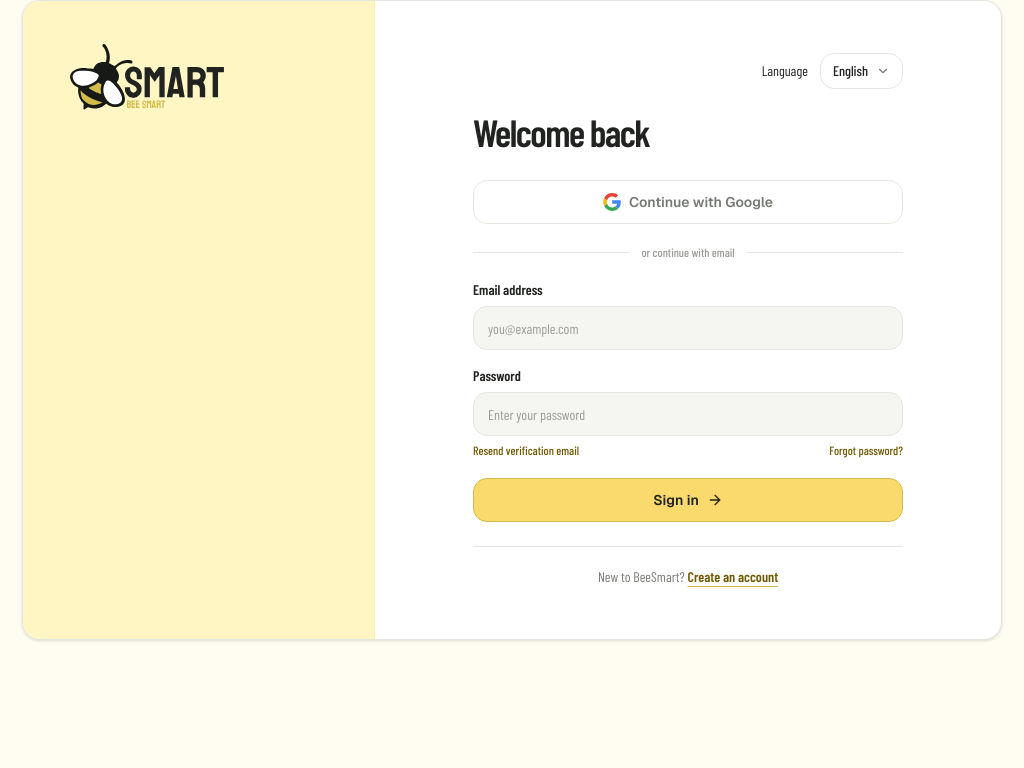
authentication pages › shows the check-email page instead of an error for an unverified account
Type "  TEACHER@EXAMPLE.COM  " into the field labelled "Email address".
click(688, 328); type("  TEACHER@EXAMPLE.COM  ")  # box 473,306 -> 903,350
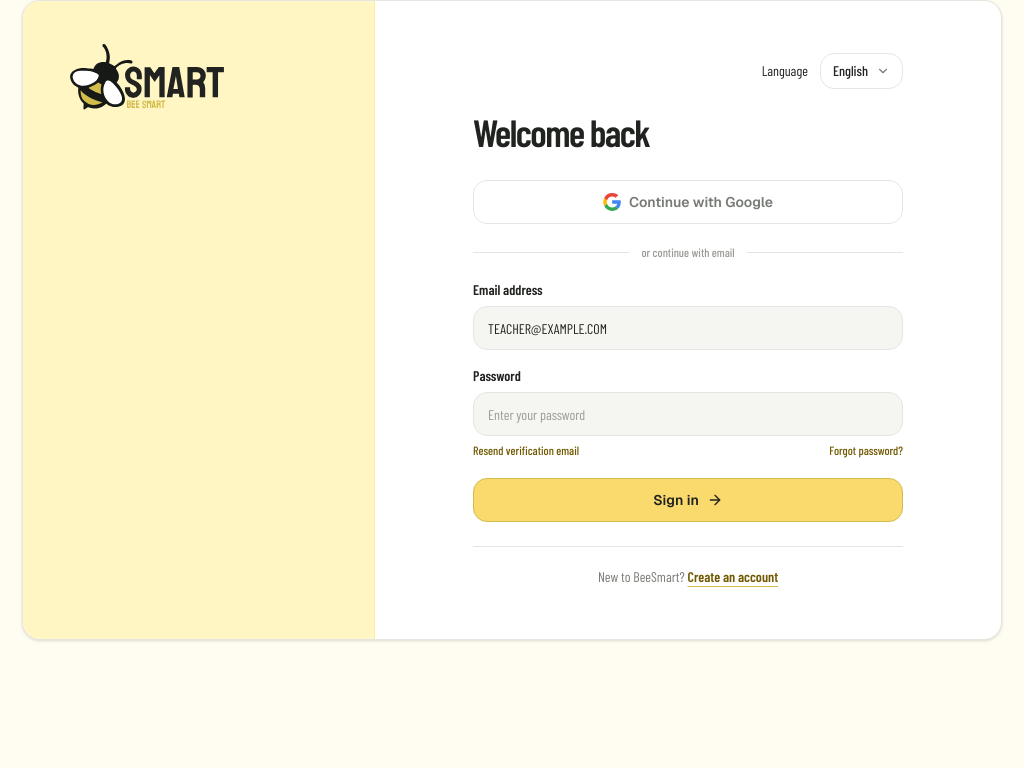
Type "long-enough-password" into the password field labelled "Password".
click(688, 414); type("long-enough-password")  # box 473,392 -> 903,436
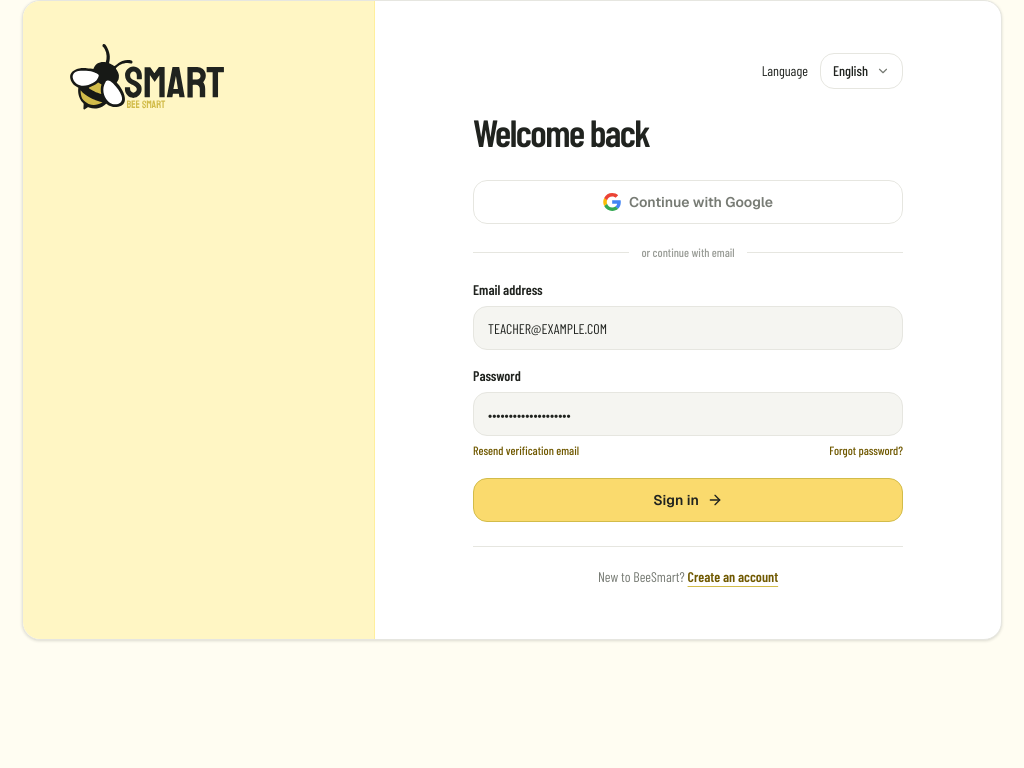
Click the button "Sign in".
click(688, 500)  # box 473,478 -> 903,522
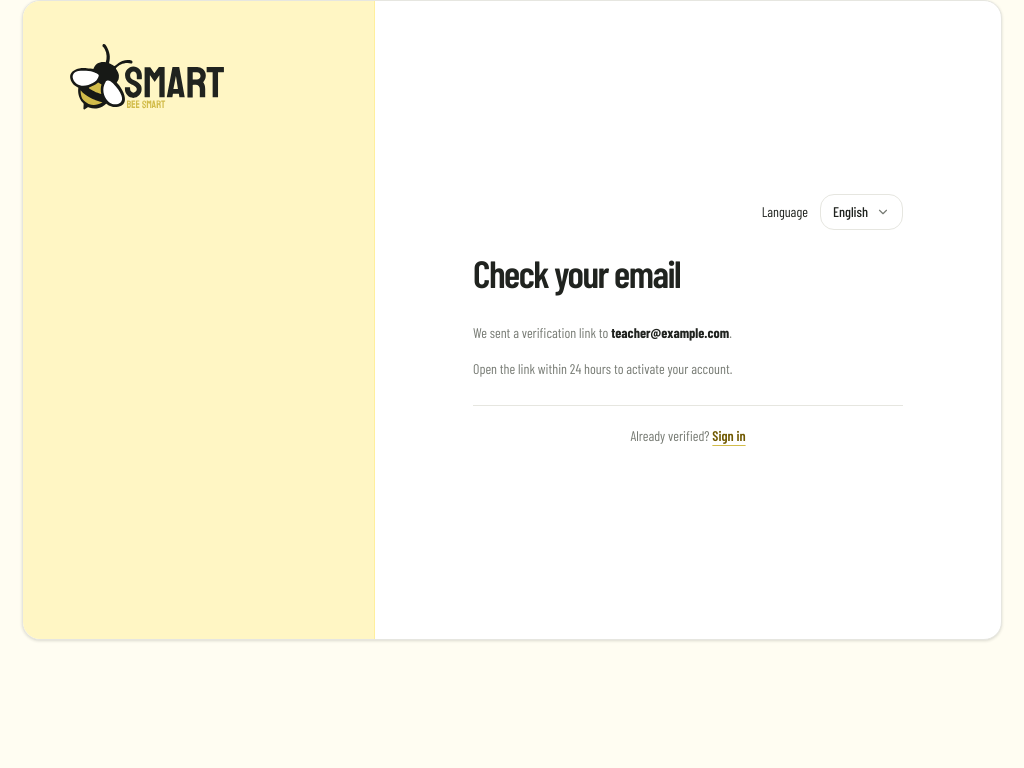
Expected: the heading "Check your email" is shown, 473,250 -> 680,296
Expected: the message shows "teacher@example.com", 611,324 -> 729,341
